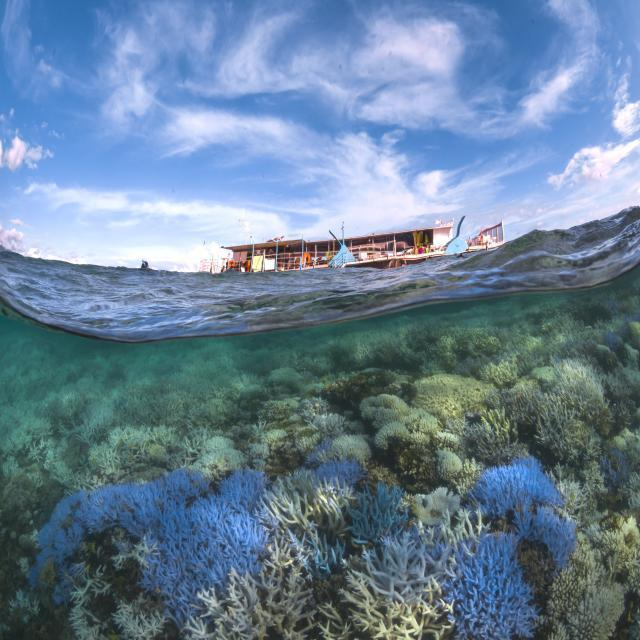Bleached Coral: (348, 529, 454, 640), (361, 393, 442, 447), (0, 389, 58, 456), (597, 520, 640, 587), (411, 477, 462, 527), (559, 353, 604, 403), (114, 597, 165, 640), (580, 593, 624, 639), (93, 432, 149, 466), (80, 392, 119, 440), (71, 593, 110, 640), (190, 441, 249, 472), (332, 429, 374, 470), (301, 394, 343, 432), (562, 477, 589, 517), (436, 446, 462, 476), (202, 435, 232, 447)
